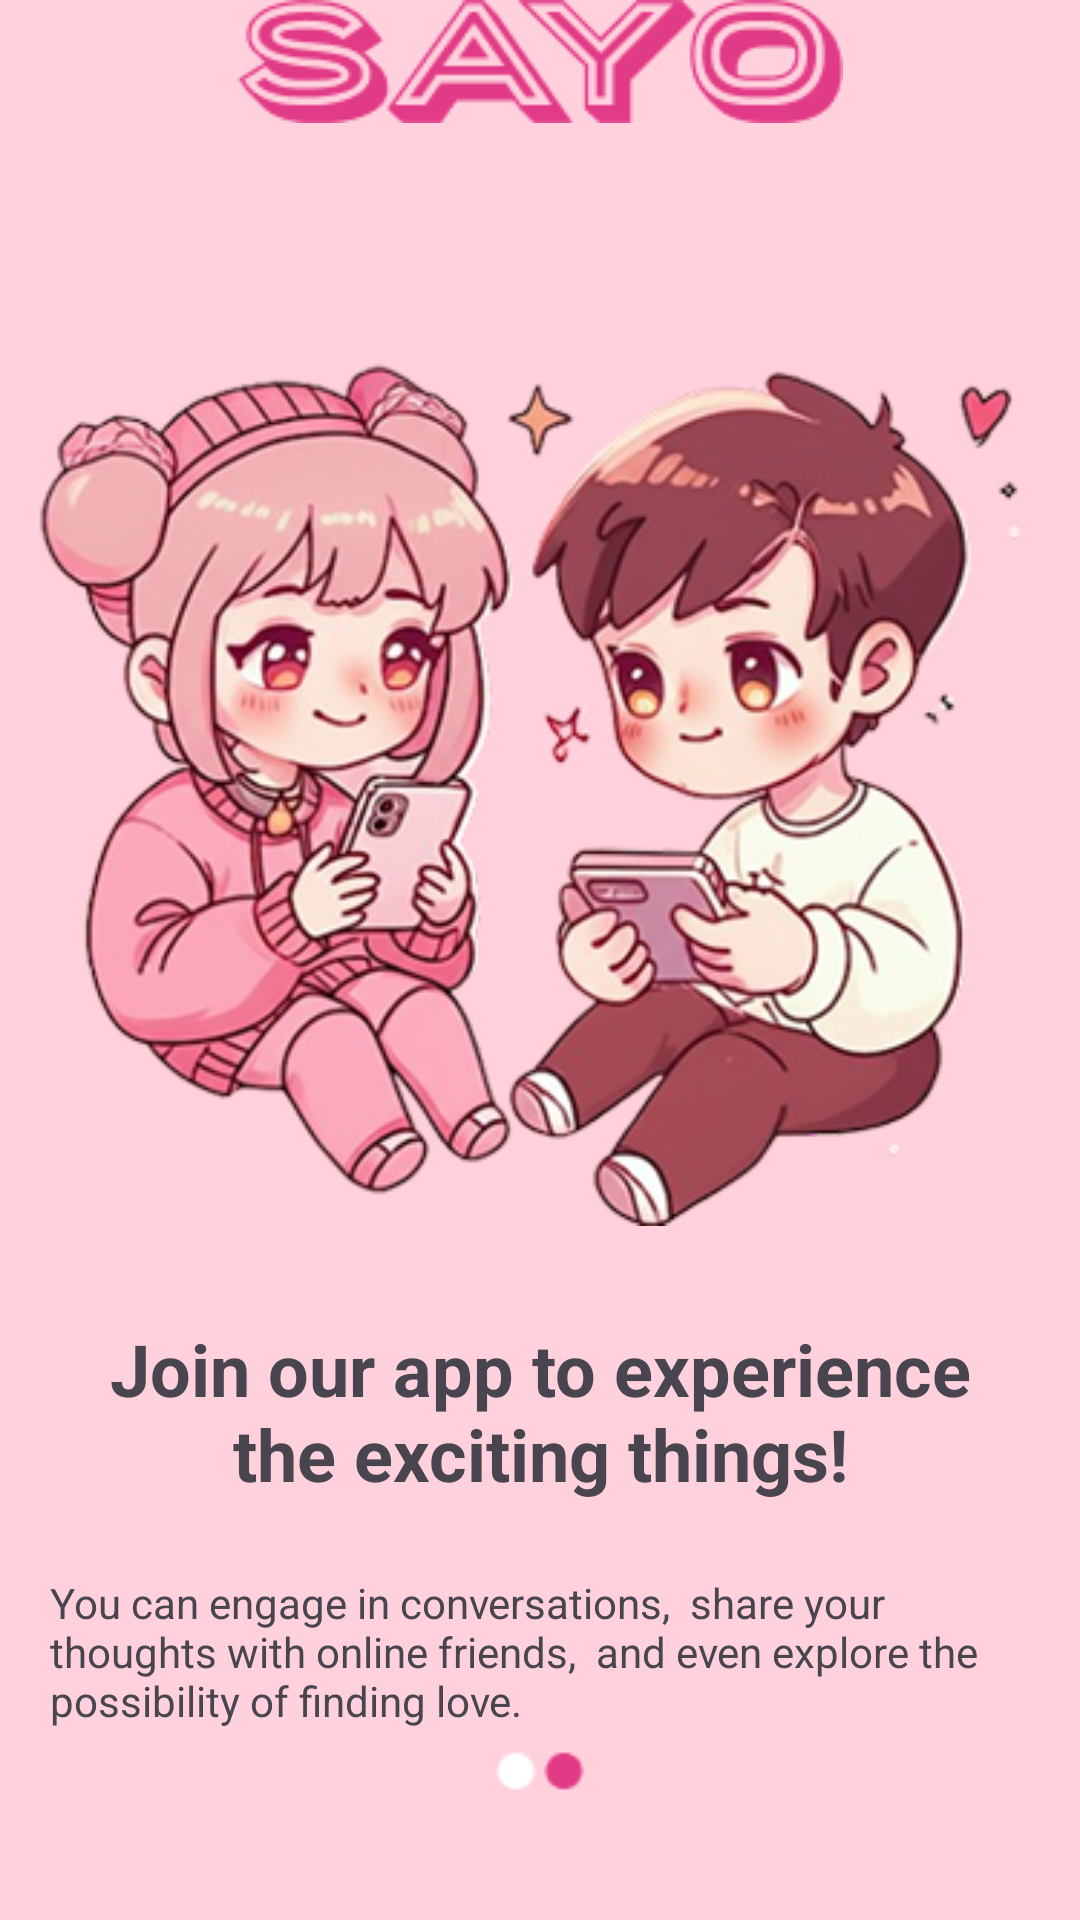

Icons on this 1080x1920 Android screen, each with the point to tap as [x,y]:
pagination: [541,1771]
